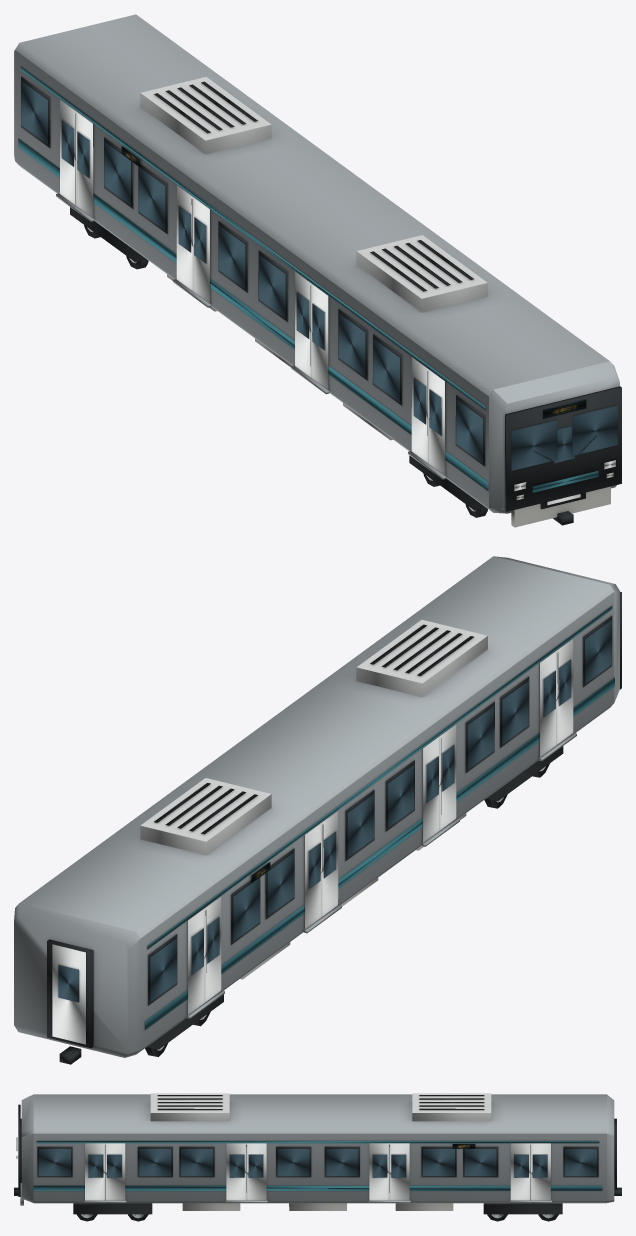
Rendered from urban_cab.lod1.obj.
The picture shows the model from 3 angles, top to bottom: view 1: azimuth 30°, elevation 25°; view 2: azimuth 150°, elevation 25°; view 3: azimuth 270°, elevation 25°; orthographic projection. The views are drawn at different scales.
Visible parts, largest first — view 1: urban_cab; view 2: urban_cab; view 3: urban_cab.
Boxes of the visible parts, x1,y1,x2,y2 form: urban_cab: (14,14,621,527); urban_cab: (14,556,621,1064); urban_cab: (14,1093,621,1221).
Bounding box in the file's own units: 3.08 × 3.95 × 20.
1 material, 1 textured.
